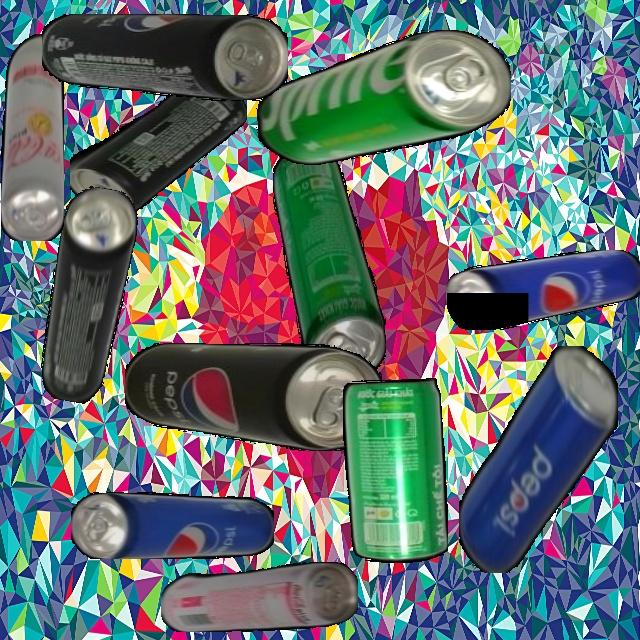debris: (458, 345, 618, 573), (255, 30, 511, 165), (124, 343, 382, 451), (272, 142, 386, 384), (32, 183, 143, 407), (69, 82, 247, 215), (41, 14, 288, 101), (342, 378, 448, 564), (446, 249, 640, 330), (160, 562, 358, 632), (71, 491, 274, 559), (0, 33, 64, 241)
